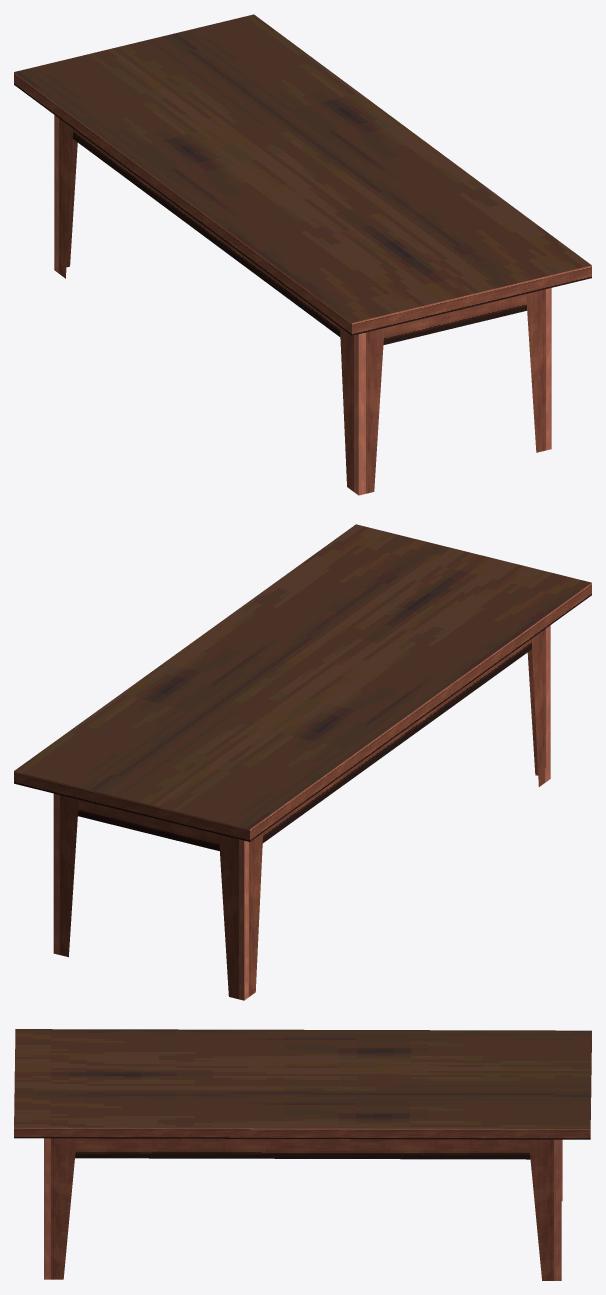
Rendered from primary_133.glb.
3 renders of one model, top to bottom at view 1: azimuth 30°, elevation 25°; view 2: azimuth 150°, elevation 25°; view 3: azimuth 270°, elevation 25°, orthographic. The views are drawn at different scales.
Visible parts, largest first — view 1: Object; view 2: Object; view 3: Object.
Boxes of the visible parts, x1=… form: Object: x1=14, y1=14, x2=591, y2=495; Object: x1=14, y1=524, x2=591, y2=1000; Object: x1=14, y1=1029, x2=591, y2=1280.
Bounding box in the file's own units: 1.54 × 1.16 × 3.77.
Materials: 4 (4 with a texture image).
